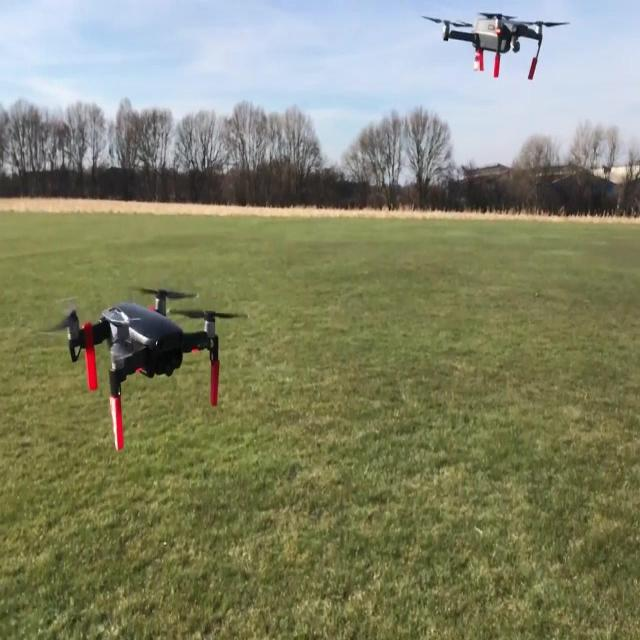drone: (41, 281, 248, 453), (419, 12, 572, 84)
